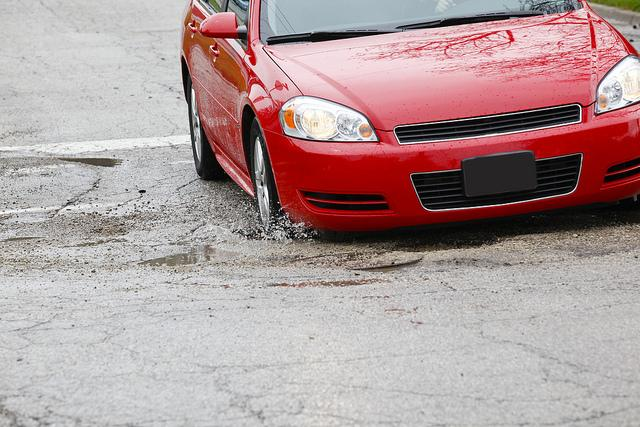pothole: (221, 191, 519, 301), (131, 226, 241, 283), (48, 149, 121, 175)
